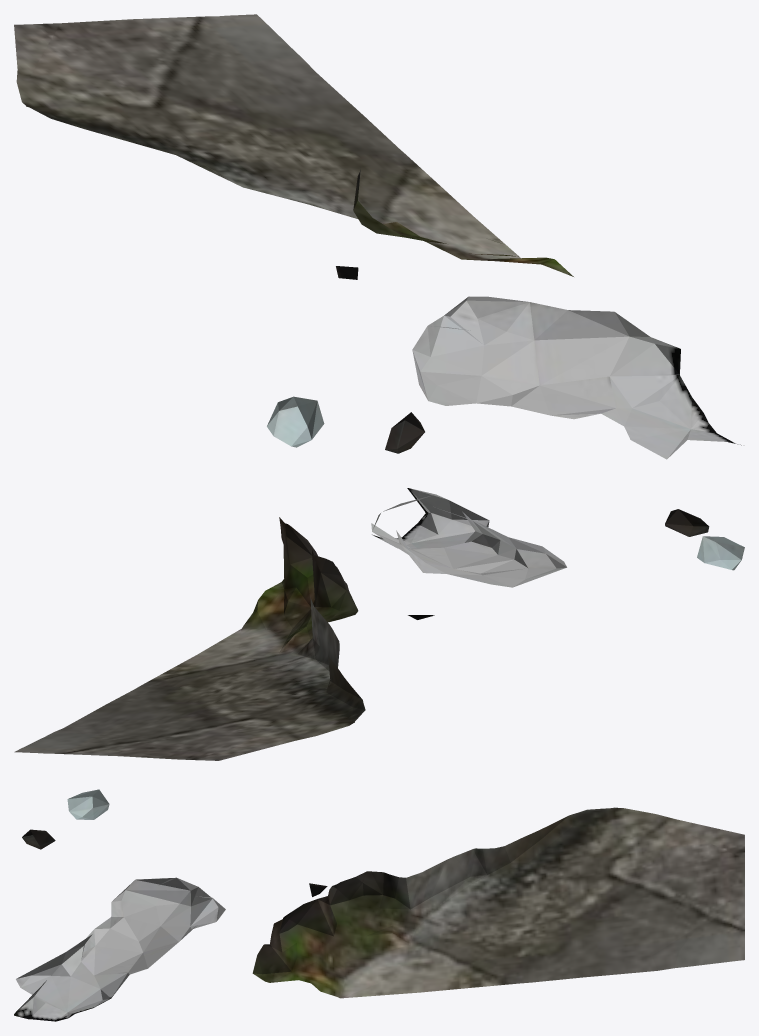
3 renders of one model, top to bottom at view 1: azimuth 30°, elevation 25°; view 2: azimuth 150°, elevation 25°; view 3: azimuth 270°, elevation 25°, orthographic. The views are drawn at different scales.
Bounding box in the file's own units: 0.7336 × 0.2155 × 1.46.
Materials: 1 (1 with a texture image).
